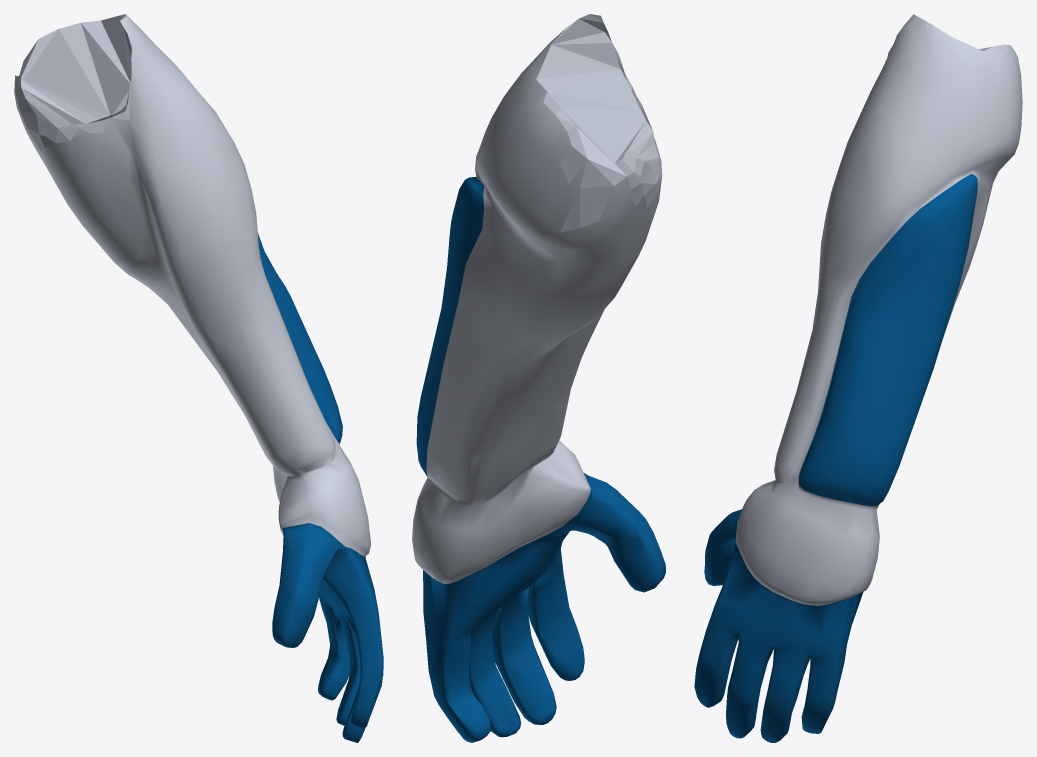
File: left_hand.fbx
3 views of the same model, side by side, from view 1: azimuth 30°, elevation 25°; view 2: azimuth 150°, elevation 25°; view 3: azimuth 270°, elevation 25° (orthographic). The views are drawn at different scales.
Parts seen in each view (by area): view 1: left_hand; view 2: left_hand; view 3: left_hand.
Part boxes in pixels (x1=…): left_hand: x1=14, y1=14, x2=383, y2=742; left_hand: x1=412, y1=14, x2=665, y2=742; left_hand: x1=694, y1=14, x2=1022, y2=742.
Bounding box in the file's own units: 2099 × 5399 × 2440.
